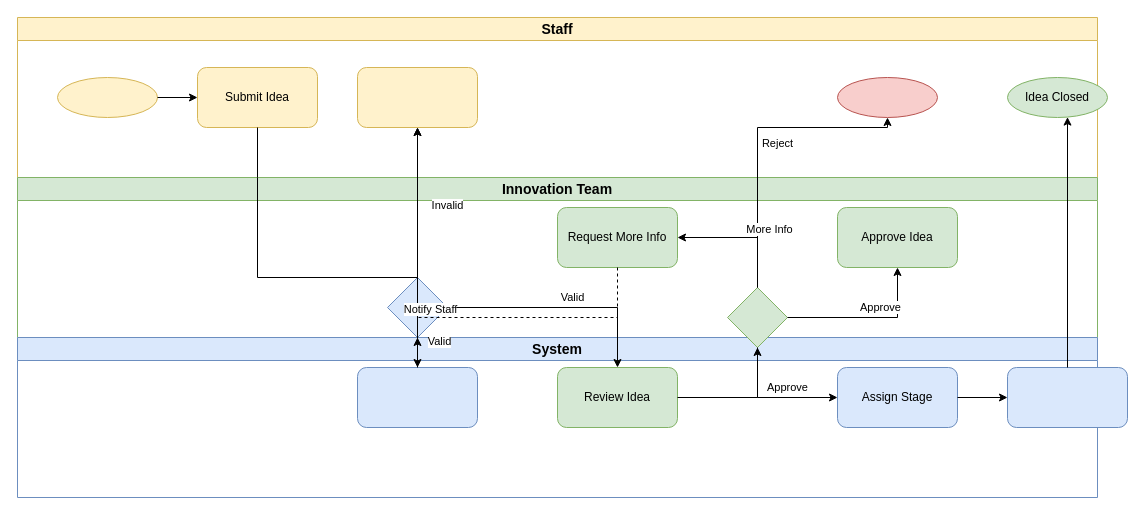
This 1145x515 diagram has some shape labels left out. The shapes that lost their labels are listed below. From the top down, each one's box as (x1, y1, x2, y2) in pixels, then its label:
(56, 76, 158, 118): Idea Conceived
(356, 66, 478, 128): Update Idea
(836, 76, 938, 118): Idea Rejected
(356, 366, 478, 428): Validate Idea
(1006, 366, 1128, 428): Notify Submitter
